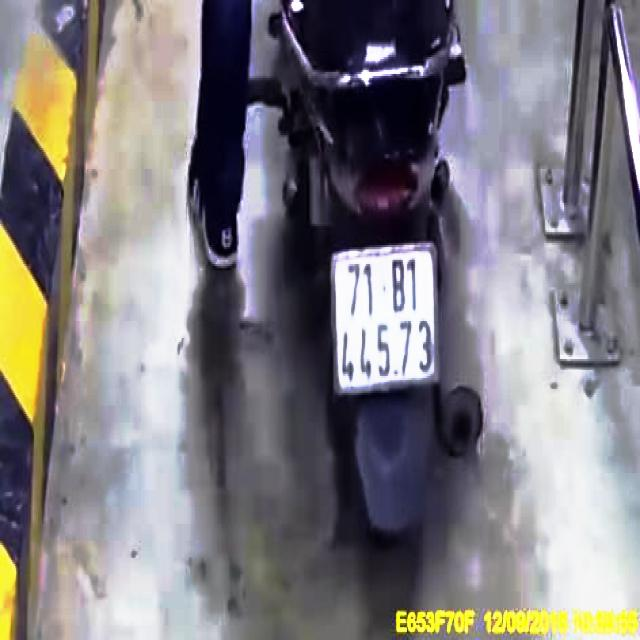license_plate: (335, 247, 438, 391)
